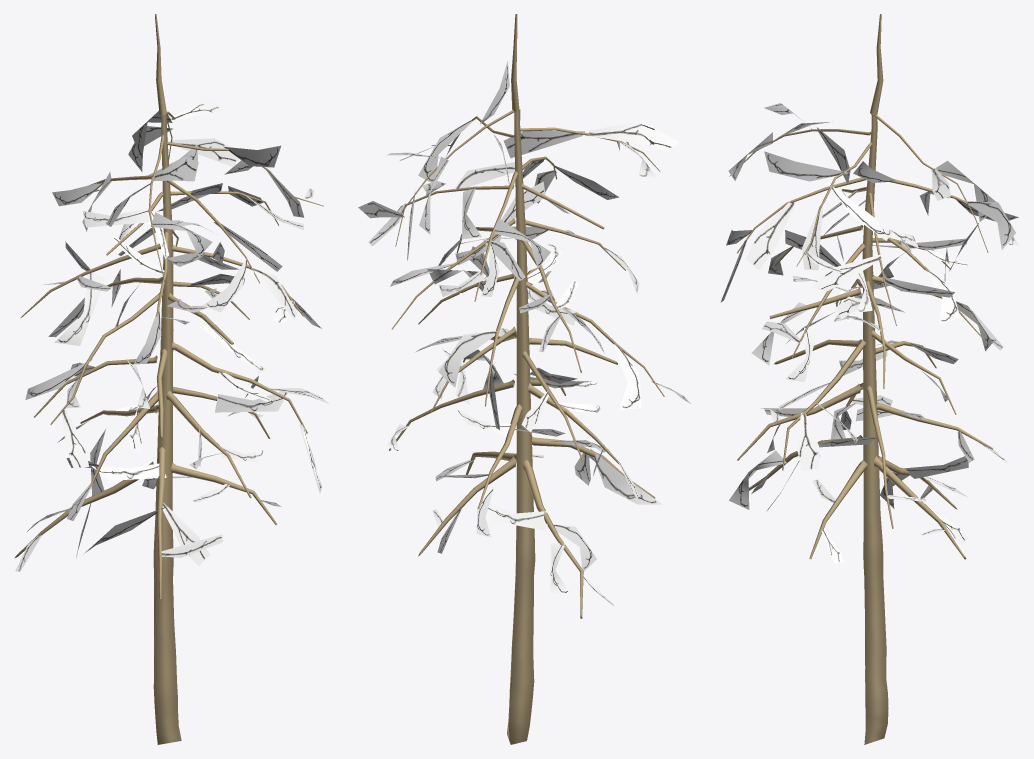
File: Lava_Wood_01.FBX
3 views of the same model, side by side, from view 1: azimuth 30°, elevation 25°; view 2: azimuth 150°, elevation 25°; view 3: azimuth 270°, elevation 25° (orthographic).
Visible parts, largest first — view 1: Lava_Wood_01; view 2: Lava_Wood_01; view 3: Lava_Wood_01.
Boxes of the visible parts, left/top/right/bottom form: Lava_Wood_01: left=14, top=14, right=328, bottom=744; Lava_Wood_01: left=358, top=14, right=690, bottom=744; Lava_Wood_01: left=720, top=14, right=1019, bottom=744.
Size of the model in its own units: 260 by 679 by 255.
Materials: 2 (1 with a texture image).
